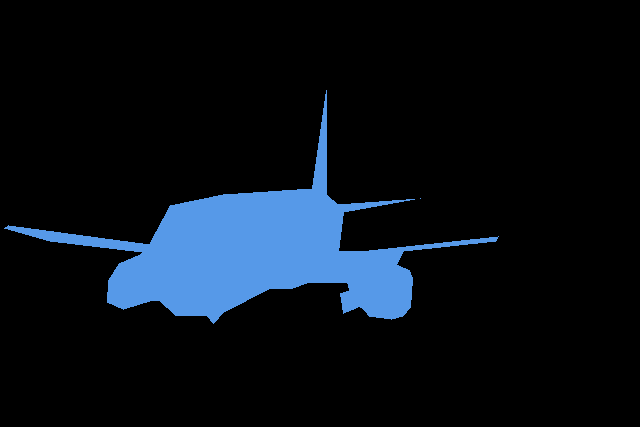Airplane: (4, 90, 499, 324)
